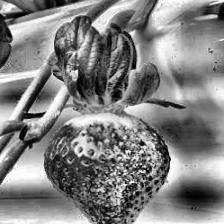Powdery Mildew Fruit: (96, 113, 173, 221)
